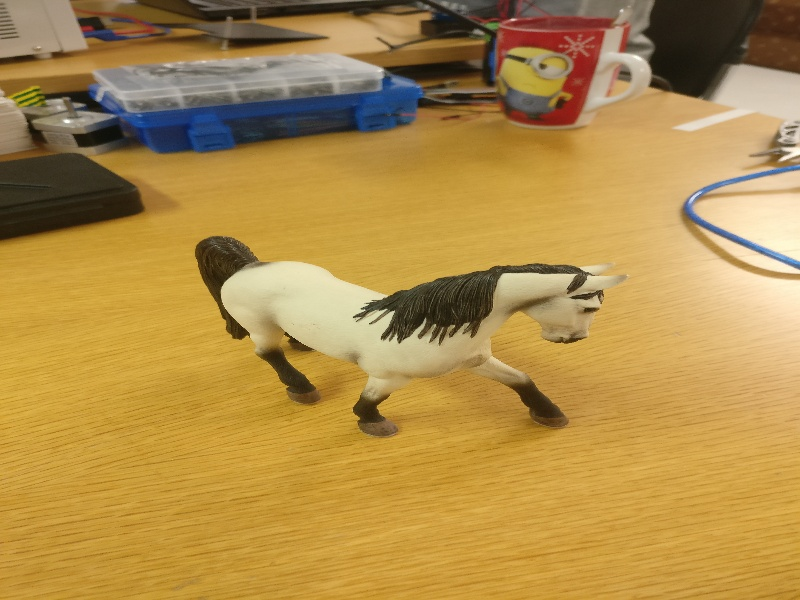toy: (187, 231, 631, 442)
